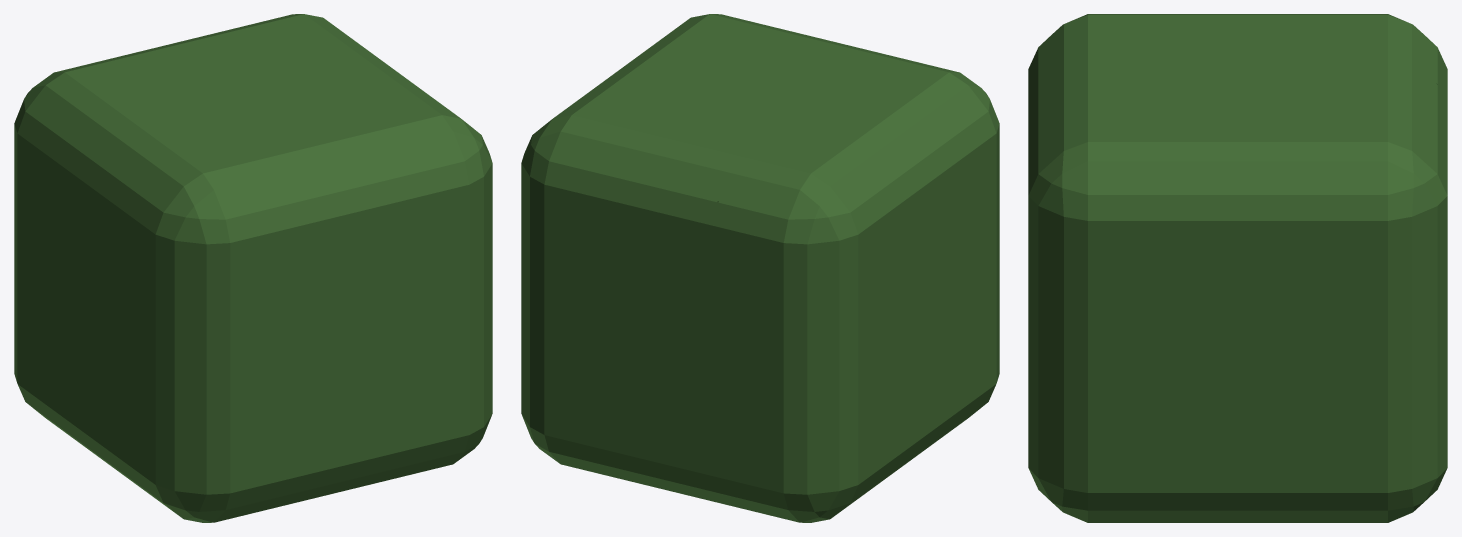
The model's file is block0.obj.
3 views of the same model, side by side, from view 1: azimuth 30°, elevation 25°; view 2: azimuth 150°, elevation 25°; view 3: azimuth 270°, elevation 25° (orthographic). The views are drawn at different scales.
Visible parts, largest first — view 1: 立方体_立方体.002; view 2: 立方体_立方体.002; view 3: 立方体_立方体.002.
Part boxes in pixels (x1,y1,x2,y2): 立方体_立方体.002: (14, 14, 492, 522); 立方体_立方体.002: (521, 14, 999, 522); 立方体_立方体.002: (1028, 14, 1447, 522).
Size of the model in its own units: 2 by 2 by 2.
Materials: 1 (1 with a texture image).
